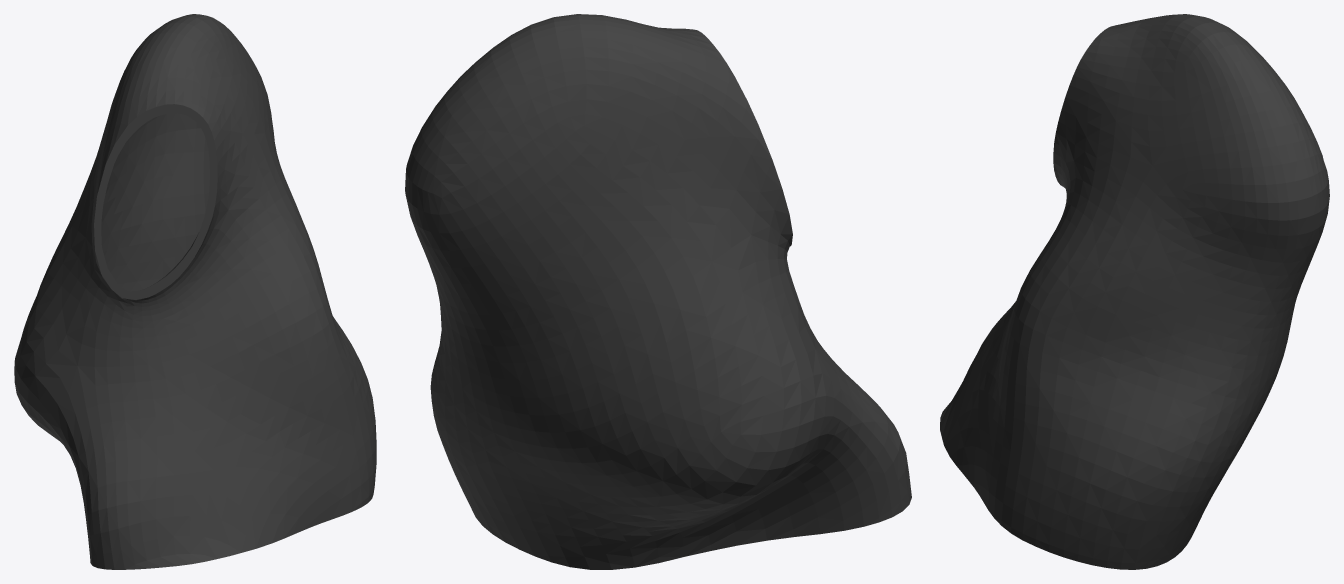
File: stom_pyloric_antrum_LP.glb
3 views of the same model, side by side, from view 1: azimuth 30°, elevation 25°; view 2: azimuth 150°, elevation 25°; view 3: azimuth 270°, elevation 25° (orthographic). The views are drawn at different scales.
Visible parts, largest first — view 1: stom_pyloric_antrum_LP; view 2: stom_pyloric_antrum_LP; view 3: stom_pyloric_antrum_LP.
Boxes of the visible parts, x1,y1,x2,y2 form: stom_pyloric_antrum_LP: [14, 14, 376, 569]; stom_pyloric_antrum_LP: [405, 14, 911, 569]; stom_pyloric_antrum_LP: [940, 14, 1329, 569].
Size of the model in its own units: 1.13 by 1.55 by 1.11.
Materials: 1 (1 with a texture image).
